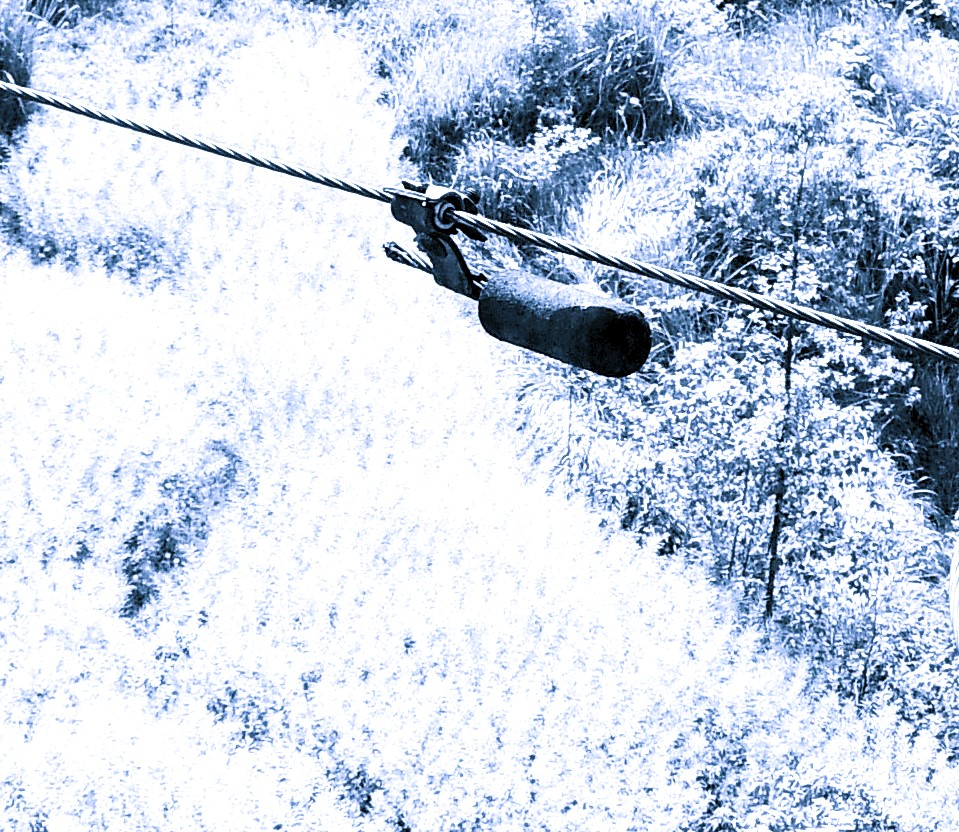Damage of shockproof hammer: (366, 162, 664, 386)
